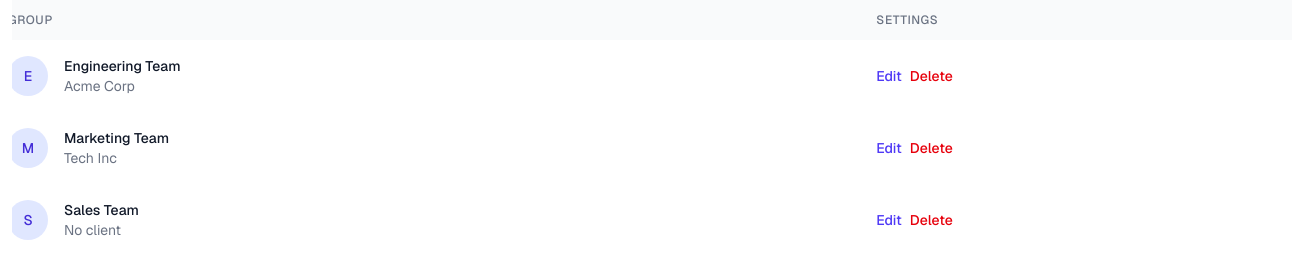
Test: GroupsTable › should show success message after deletion
The image size is (1292, 257).
Click the button "Delete" in the row of "Engineering Team".
click(931, 76)  # box x1=910 y1=66 x2=953 y2=86
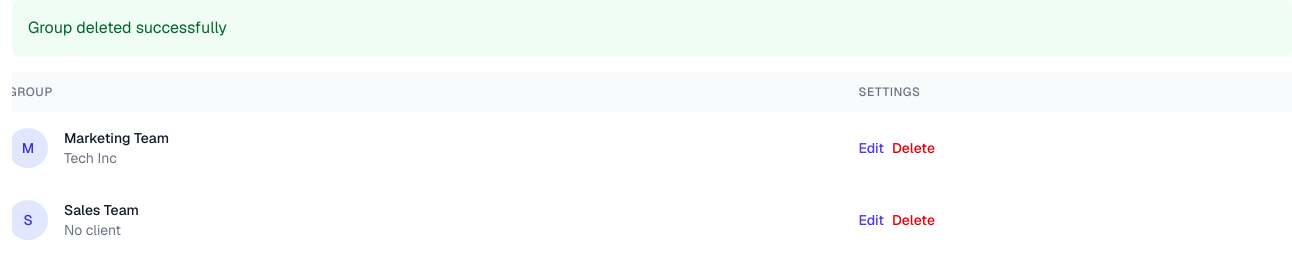
Now the text "Group deleted successfully" is shown, box x1=12 y1=0 x2=1291 y2=56
